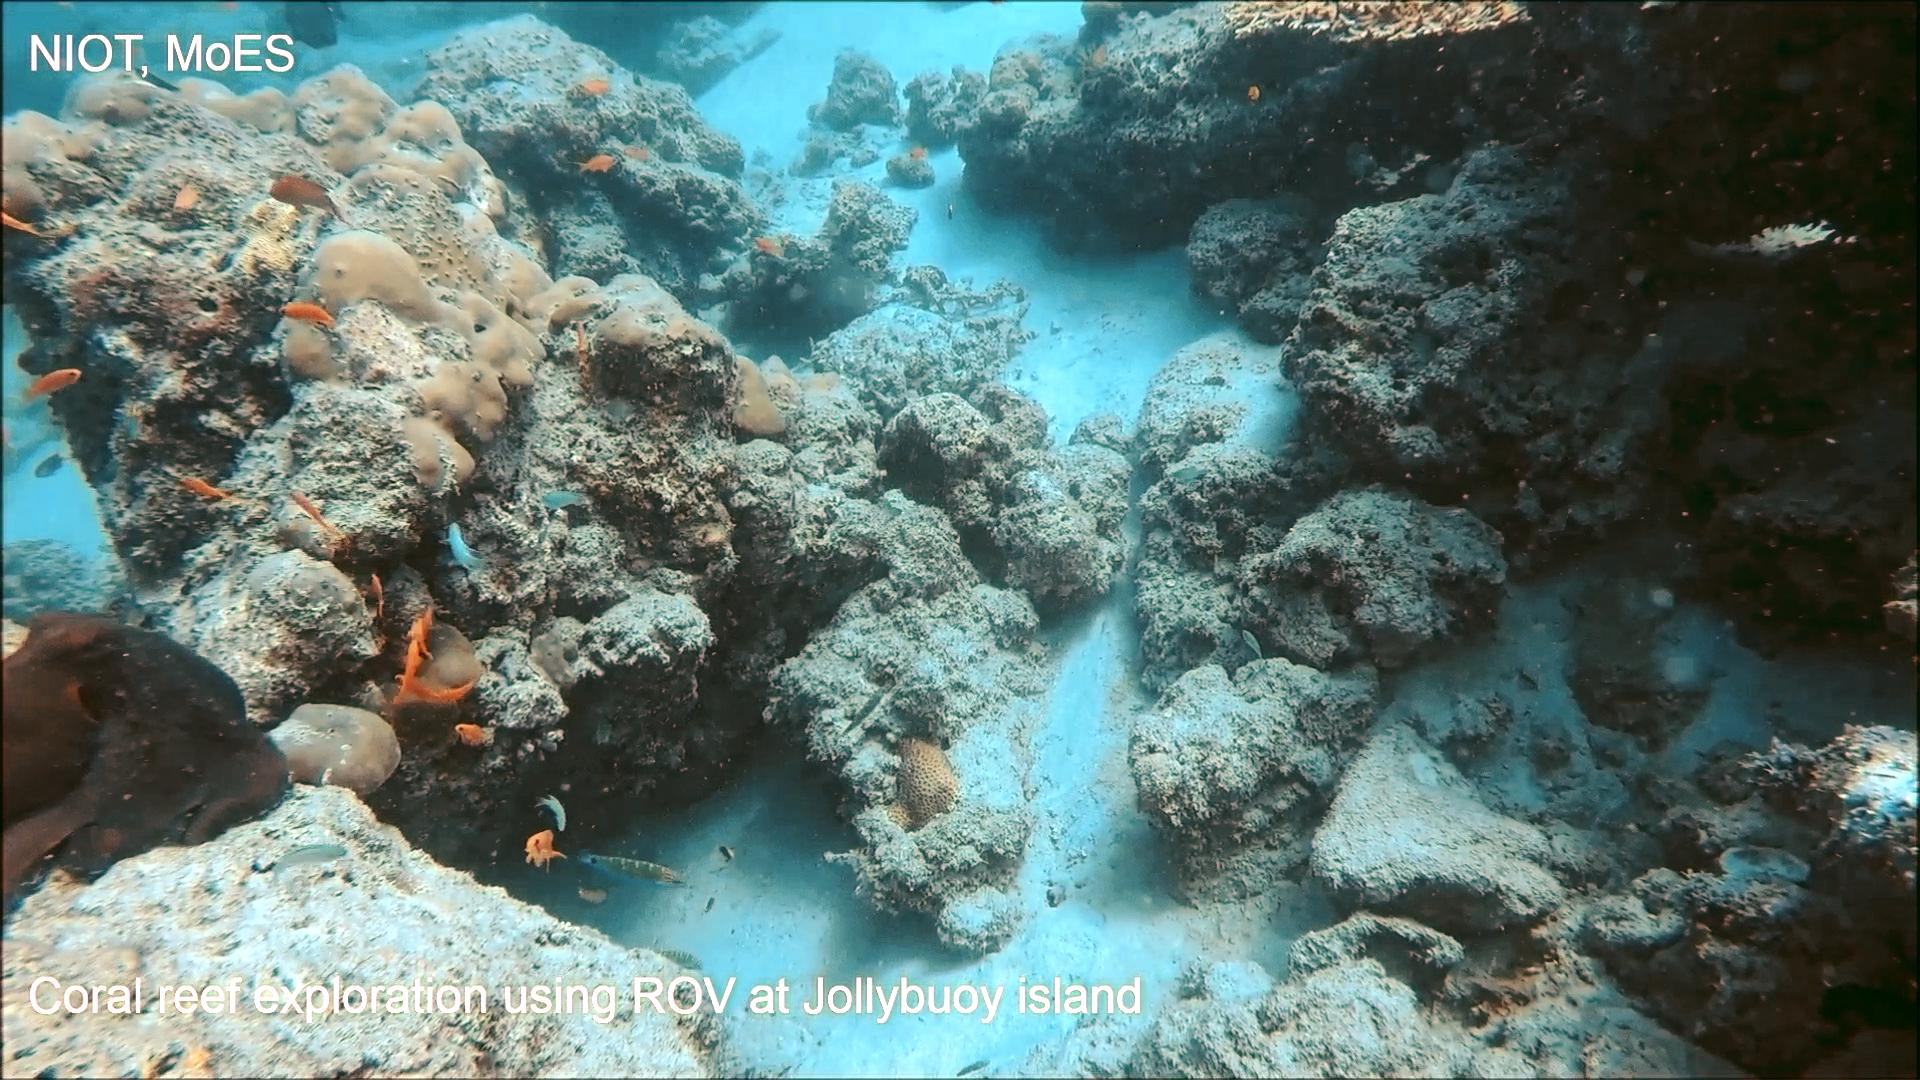Porites-Porites pukoensis: (260, 51, 615, 505)
